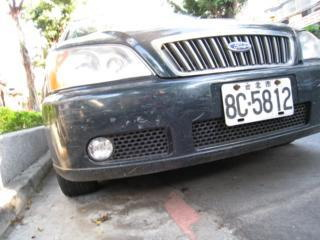plate: (221, 70, 296, 125)
